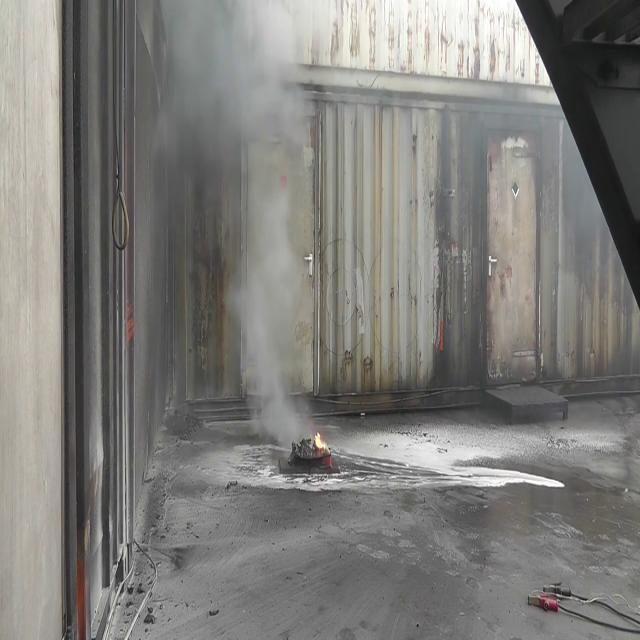Fire: (311, 424, 333, 460)
Smoke: (151, 1, 317, 444)
